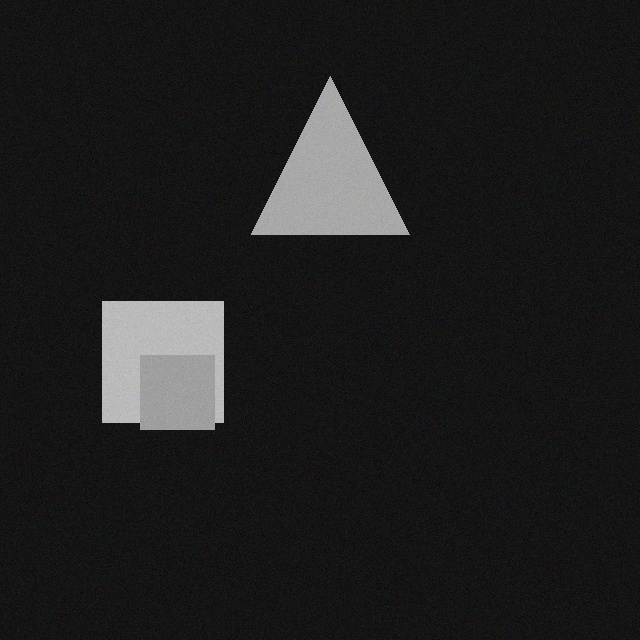square: (107, 302, 228, 423), (145, 356, 219, 430)
triangle: (256, 77, 414, 235)
